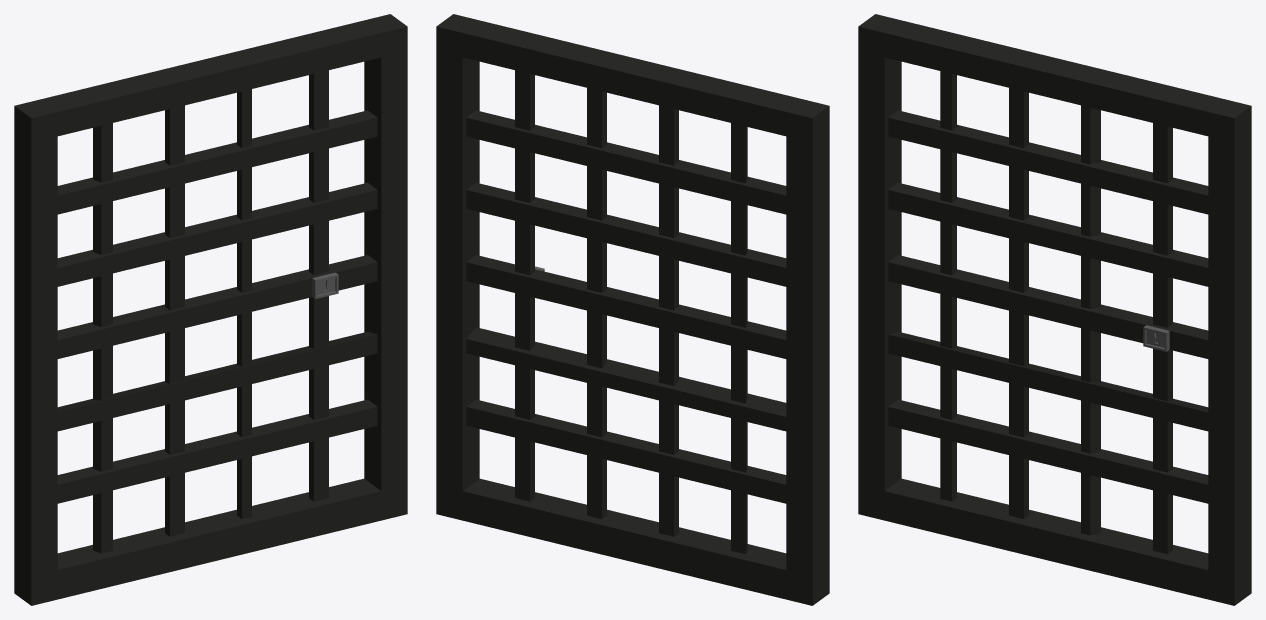
File: Door_05.fbx
3 renders of one model, left to right at view 1: azimuth 30°, elevation 25°; view 2: azimuth 150°, elevation 25°; view 3: azimuth 330°, elevation 25°, orthographic.
Parts seen in each view (by area): view 1: Door_05; view 2: Door_05; view 3: Door_05.
Boxes of the visible parts, x1=… form: Door_05: x1=14, y1=14, x2=407, y2=605; Door_05: x1=436, y1=14, x2=829, y2=605; Door_05: x1=858, y1=14, x2=1251, y2=605.
Bounding box in the file's own units: 164 × 204 × 13.01.
